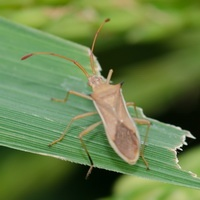insect: (21, 19, 150, 178)
